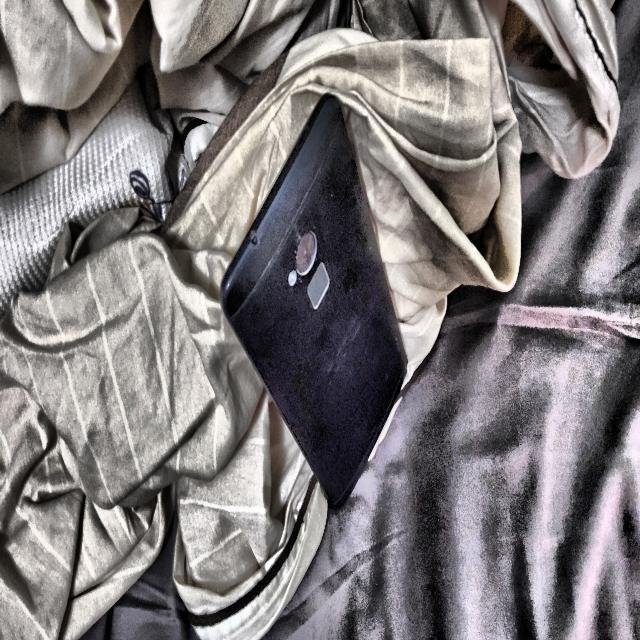PHONE: (221, 94, 408, 508)
